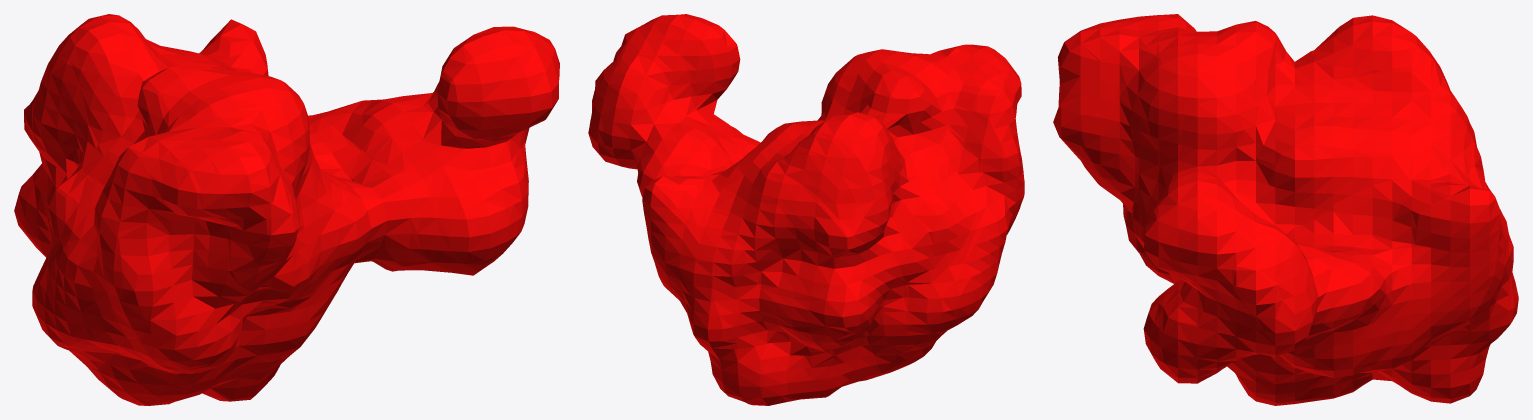
Rendered from ybeZ_coarse.dae.
3 views of the same model, side by side, from view 1: azimuth 30°, elevation 25°; view 2: azimuth 150°, elevation 25°; view 3: azimuth 270°, elevation 25° (orthographic). The views are drawn at different scales.
Visible parts, largest first — view 1: ybeZ; view 2: ybeZ; view 3: ybeZ.
Boxes of the visible parts, x1,y1,x2,y2 form: ybeZ: (14,14,559,405); ybeZ: (588,14,1024,405); ybeZ: (1053,14,1518,405).
Size of the model in its own units: 71.95 by 50.26 by 60.9.
